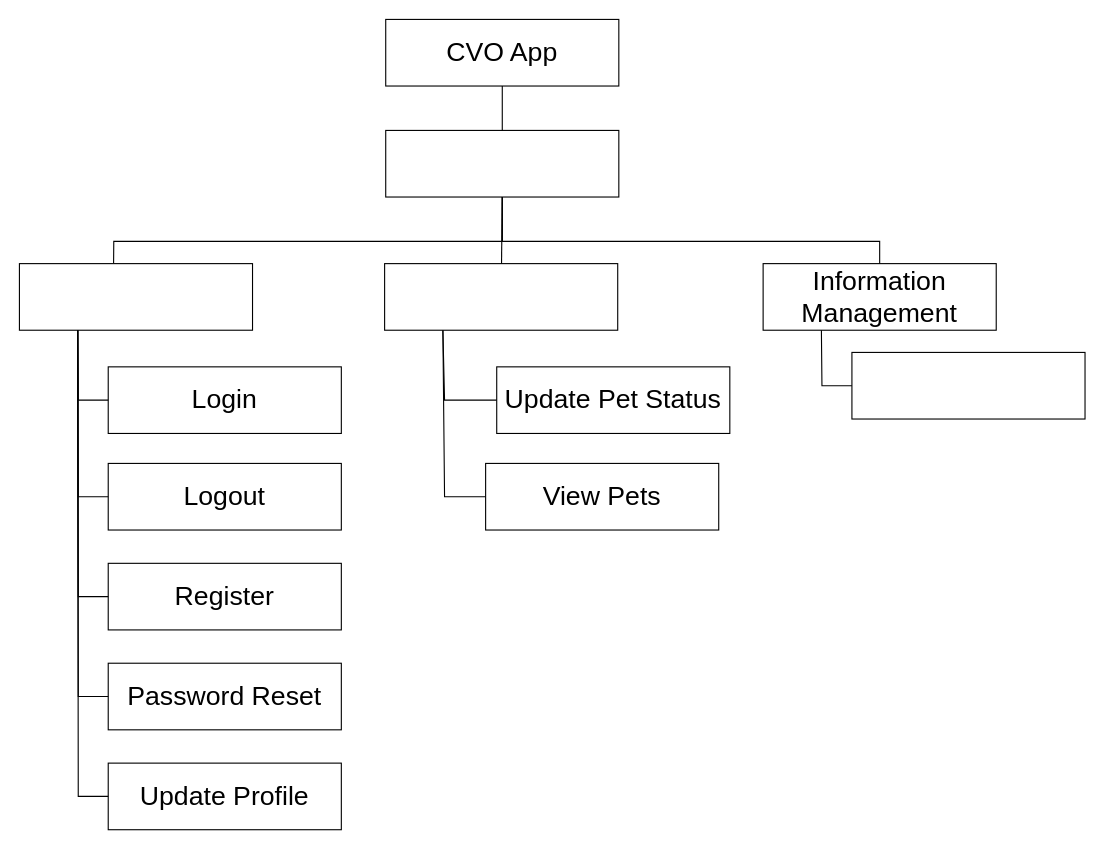
Image size: 1104x849. Some labels were removed from this diagram. Here are the shapes that lost their labels. From the top down, the centre of each, then its label:
At point (502, 163): "Admin".
At point (135, 296): "User Account Management".
At point (501, 296): "Pet Management".
At point (968, 385): "View Feedbacks".
